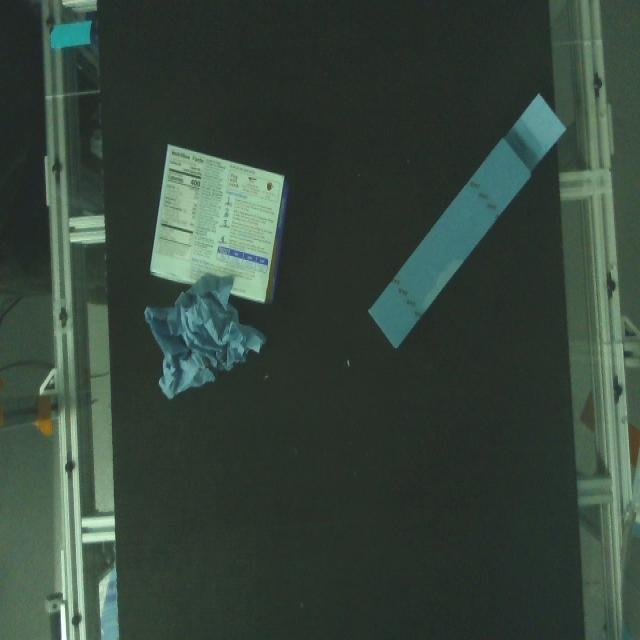paper: (362, 85, 570, 357), (142, 138, 302, 304), (142, 267, 263, 406)
